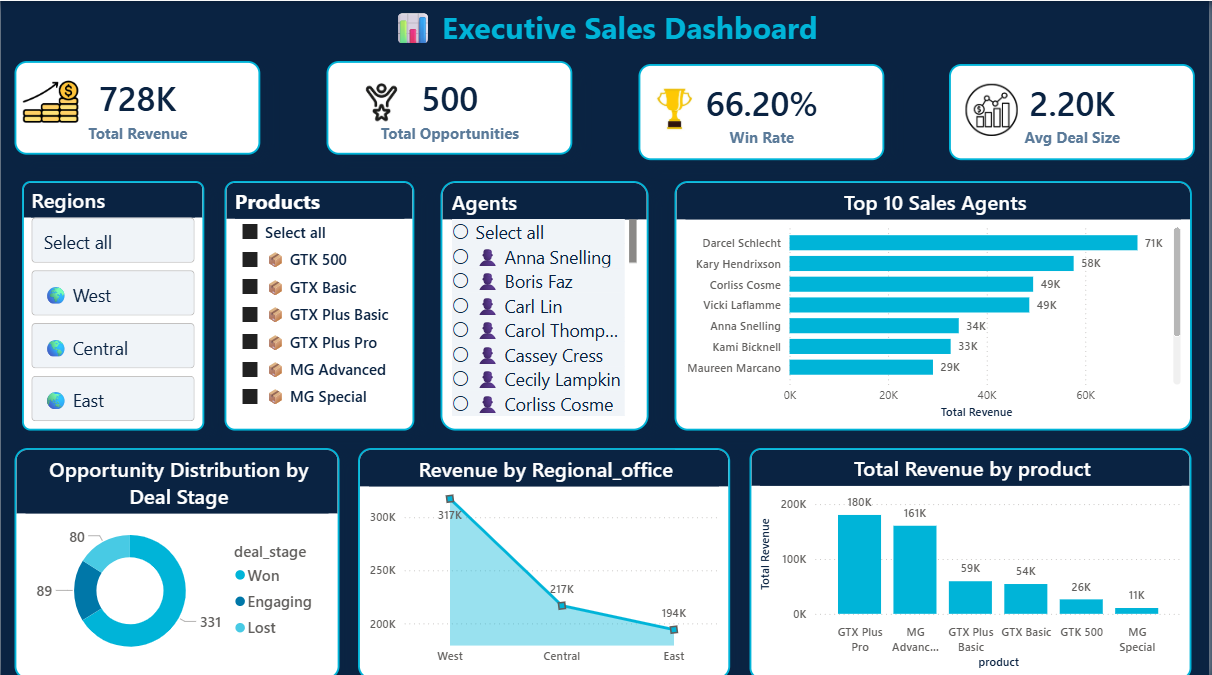

What the dashboard file says about the page in this screenshot:
{"tool":"powerbi","page":{"name":"Executive dashboard","canvas":[1280,720],"ordinal":0},"visuals":[{"type":"card","fields":{"Values":["Table.Total Revenue"]},"box":[13.8,63.4,260.9,99.3],"z":0,"group":"g1"},{"type":"clusteredBarChart","title":"Top 10 Sales Agents","fields":{"Category":["sales pipeline.sales_agent"],"Y":["Table.Total Revenue"]},"box":[714.5,190.3,549,264.8],"z":0},{"type":"card","fields":{"Values":["Table.Win Rate"]},"box":[674.8,66.2,260.9,102.1],"z":1000,"group":"g3"},{"type":"donutChart","title":"Opportunity Distribution by Deal Stage","fields":{"Category":["sales pipeline.deal_stage"],"Y":["Table.Total Opportunities"]},"box":[13.8,474.5,344.8,245.5],"z":1000},{"type":"card","fields":{"Values":["Table.Avg Deal Size"]},"box":[1005.3,66.2,260.9,102.1],"z":2000,"group":"g4"},{"type":"columnChart","fields":{"Category":["products.product"],"Y":["Table.Total Revenue"]},"box":[794.5,474.5,469,245.5],"z":2000},{"type":"card","fields":{"Values":["Table.Total Opportunities"]},"box":[344.3,63.4,260.9,99.3],"z":3000,"group":"g2"},{"type":"areaChart","title":" Revenue by Regional_office","fields":{"Y":["Table.Total Revenue"],"Category":["sales teams.regional_office"]},"box":[377.9,474.5,394.5,245.5],"z":3000},{"type":"slicer","title":"Products","fields":{"Values":["sales pipeline.Product Icon"]},"box":[237.2,190.3,201.4,264.8],"z":4000},{"type":"listSlicer","title":"Agents","fields":{"Values":["sales teams.Agent Icon"]},"box":[466.2,190.3,220.7,264.8],"z":5000},{"type":"advancedSlicerVisual","title":"Regions","fields":{"Values":["sales teams.Region Icon"]},"box":[22.1,190.3,193.1,264.8],"z":6000},{"type":"textbox","box":[13.8,0,1252.4,63.4],"z":7000},{"type":"group","id":"g1","title":"Group 1","box":[13.8,63.4,260.9,99.3],"z":8000,"group":"g5"},{"type":"group","id":"g2","title":"Group 2","box":[344.3,63.4,260.9,99.3],"z":9000,"group":"g5"},{"type":"group","id":"g3","title":"Group 3","box":[674.8,66.2,260.9,102.1],"z":10000,"group":"g5"},{"type":"group","id":"g4","title":"Group 4","box":[1005.3,66.2,260.9,102.1],"z":11000,"group":"g5"},{"type":"group","id":"g5","title":"Group 5","box":[13.8,63.4,1252.4,104.8],"z":11001},{"type":"image","box":[22.5,66.2,60.9,80],"z":11001,"group":"g1"},{"type":"image","box":[364.6,82.7,75.4,49.7],"z":11003,"group":"g2"},{"type":"image","box":[683.5,82.8,60.9,63.4],"z":11005,"group":"g3"},{"type":"image","box":[1022.7,80,55.1,69],"z":11007,"group":"g4"}]}

Visuals, with their boxes in screenshot pixels (x1, y1, x2, y2), scaled from the page's 1280x720 canvas onto the 1212x675 screenshot:
card - Table.Total Revenue: (x1=13, y1=59, x2=260, y2=153)
"Top 10 Sales Agents" clusteredBarChart: (x1=677, y1=178, x2=1196, y2=427)
card - Table.Win Rate: (x1=639, y1=62, x2=886, y2=158)
"Opportunity Distribution by Deal Stage" donutChart: (x1=13, y1=445, x2=340, y2=674)
card - Table.Avg Deal Size: (x1=952, y1=62, x2=1199, y2=158)
columnChart - products.product x Table.Total Revenue: (x1=752, y1=445, x2=1196, y2=674)
card - Table.Total Opportunities: (x1=326, y1=59, x2=573, y2=153)
" Revenue by Regional_office" areaChart: (x1=358, y1=445, x2=731, y2=674)
"Products" slicer: (x1=225, y1=178, x2=415, y2=427)
"Agents" listSlicer: (x1=441, y1=178, x2=650, y2=427)
"Regions" advancedSlicerVisual: (x1=21, y1=178, x2=204, y2=427)
textbox: (x1=13, y1=0, x2=1199, y2=59)
"Group 1" group: (x1=13, y1=59, x2=260, y2=153)
"Group 2" group: (x1=326, y1=59, x2=573, y2=153)
"Group 3" group: (x1=639, y1=62, x2=886, y2=158)
"Group 4" group: (x1=952, y1=62, x2=1199, y2=158)
"Group 5" group: (x1=13, y1=59, x2=1199, y2=158)
image: (x1=21, y1=62, x2=79, y2=137)
image: (x1=345, y1=78, x2=417, y2=124)
image: (x1=647, y1=78, x2=705, y2=137)
image: (x1=968, y1=75, x2=1021, y2=140)
